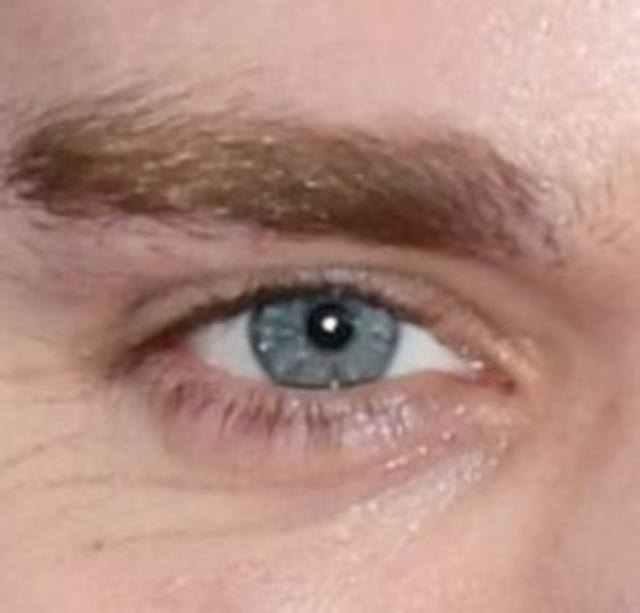eye: (250, 283, 402, 396)
